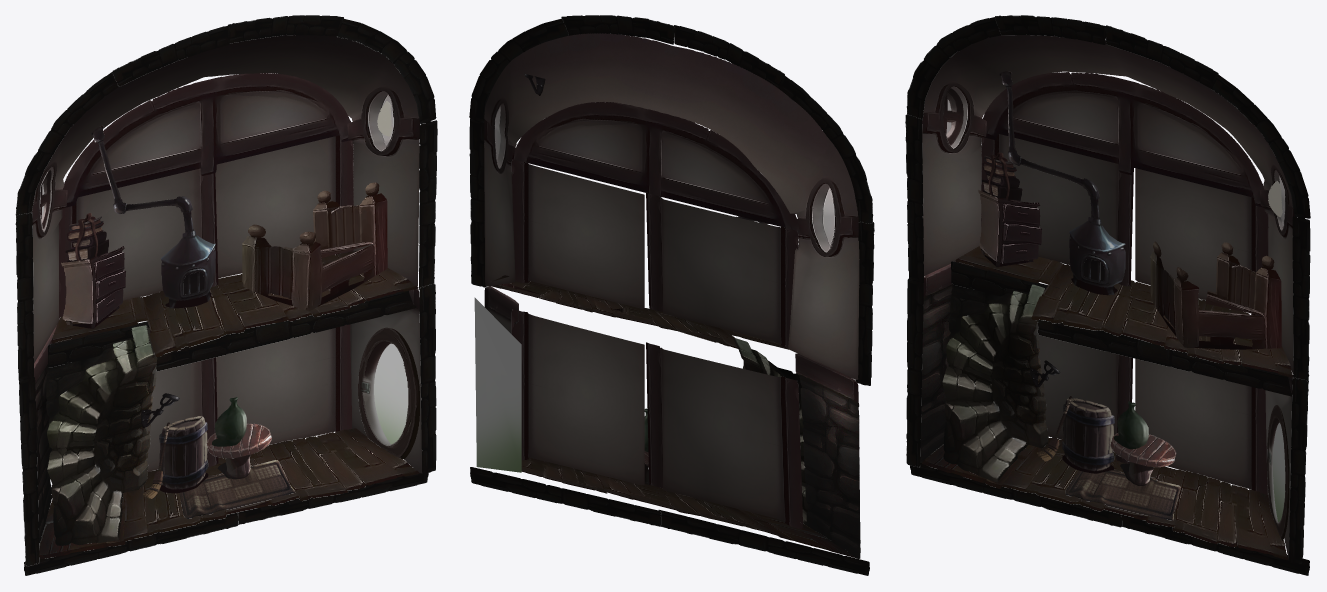
Rendered from House.FBX.
3 views of the same model, side by side, from view 1: azimuth 30°, elevation 25°; view 2: azimuth 150°, elevation 25°; view 3: azimuth 330°, elevation 25° (orthographic).
Parts seen in each view (by area): view 1: House; view 2: House; view 3: House.
Boxes of the visible parts, bbox=[...] form: House: bbox=[15, 15, 437, 575]; House: bbox=[469, 15, 874, 575]; House: bbox=[905, 15, 1310, 575].
Size of the model in its own units: 813 by 105 by 952.
